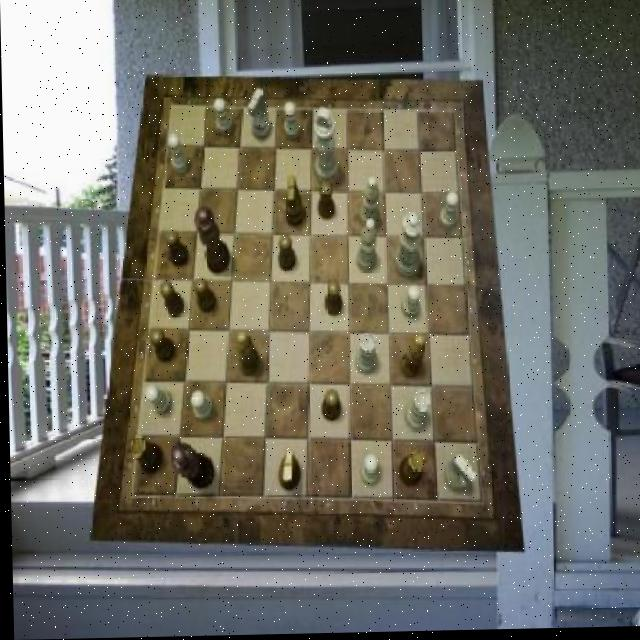bishop: (400, 337, 425, 382), (235, 331, 259, 377)
black-bishop: (168, 444, 213, 490)
black-king: (283, 176, 304, 229), (275, 452, 299, 492)
black-knight: (157, 281, 182, 318), (149, 328, 174, 363), (164, 231, 188, 267), (192, 278, 214, 313), (276, 235, 295, 273), (317, 183, 335, 221), (319, 391, 339, 424), (324, 280, 342, 316)
black-pawn: (194, 207, 231, 275)
black-queen: (128, 436, 161, 476), (397, 451, 425, 489)
black-rook: (355, 221, 376, 275), (359, 178, 380, 232)
white-bishop: (312, 108, 338, 187)
white-king: (442, 455, 476, 493), (248, 89, 271, 142)
white-knight: (142, 385, 170, 416), (168, 135, 189, 176), (438, 194, 458, 233), (213, 99, 232, 137), (190, 392, 213, 423), (359, 455, 379, 488), (401, 287, 420, 321), (283, 103, 300, 141)
white-pawn: (393, 213, 423, 279)
white-queen: (404, 393, 431, 433), (353, 333, 375, 376)
